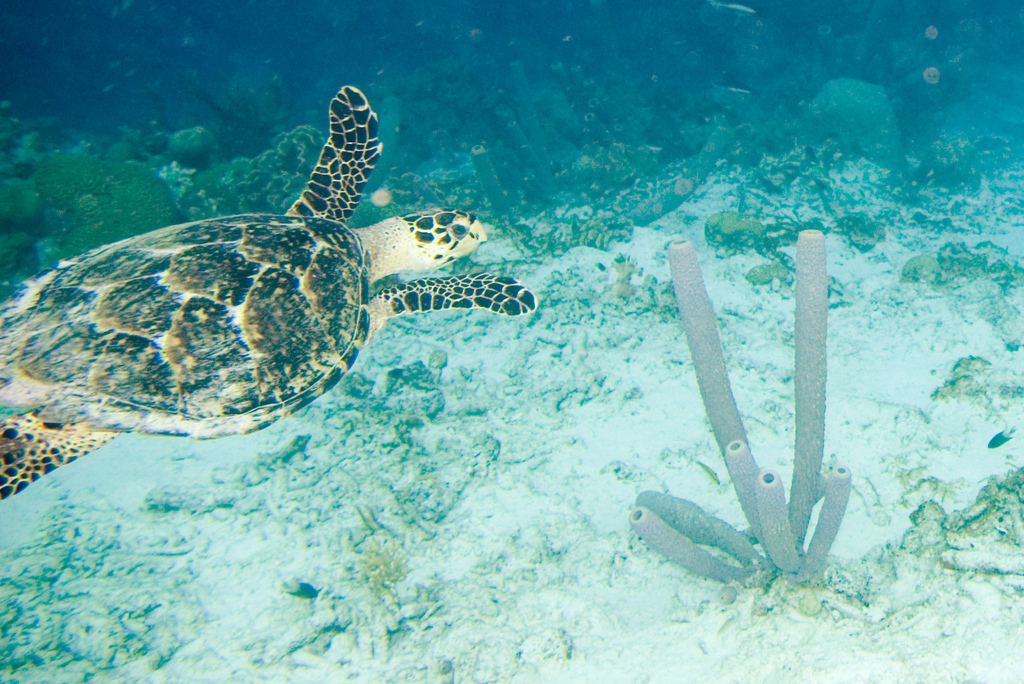Sea turtles: (0, 84, 537, 502)
